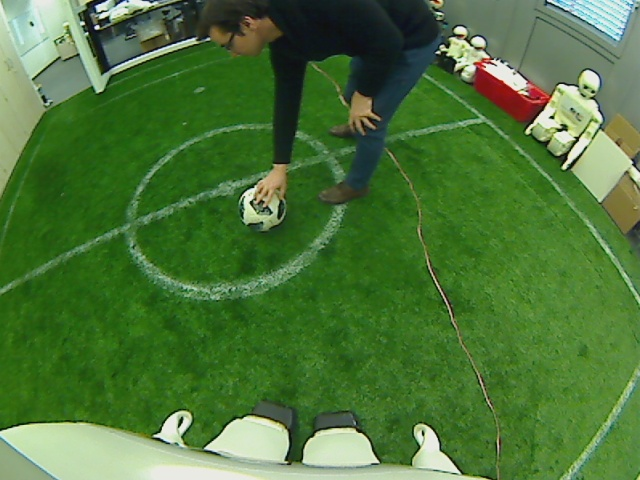ball: (239, 185, 287, 230)
